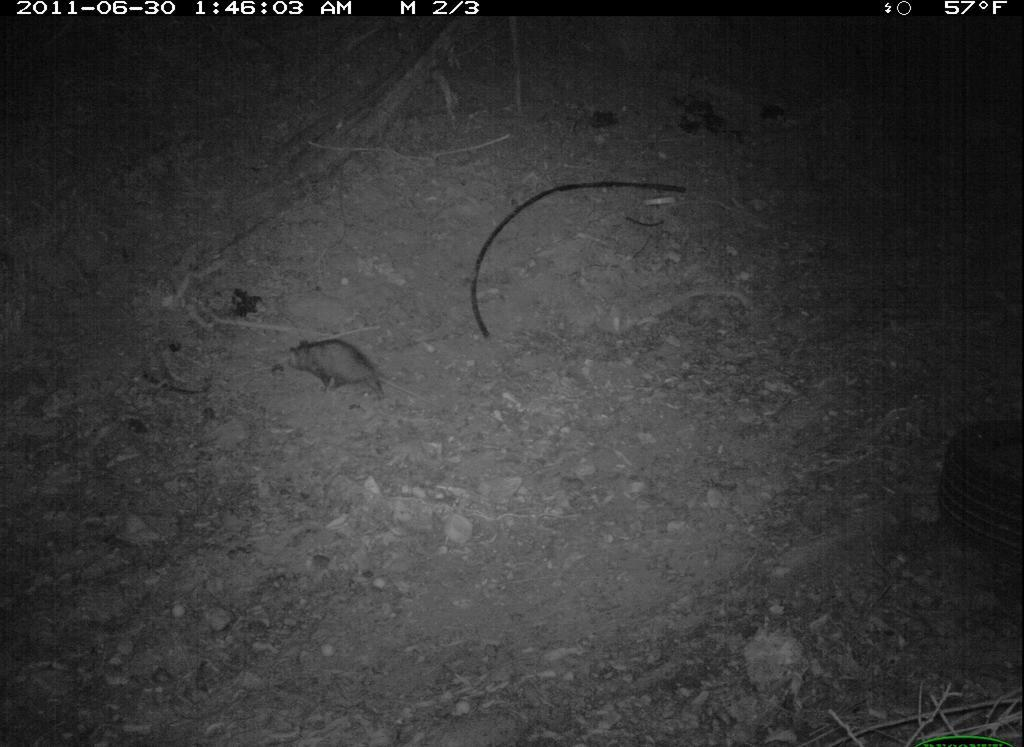opossum: (245, 322, 414, 422)
